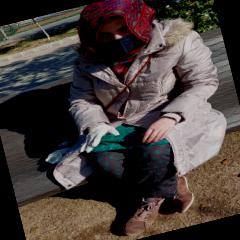gloved: (76, 119, 122, 154)
not-gloved: (136, 115, 180, 147)
